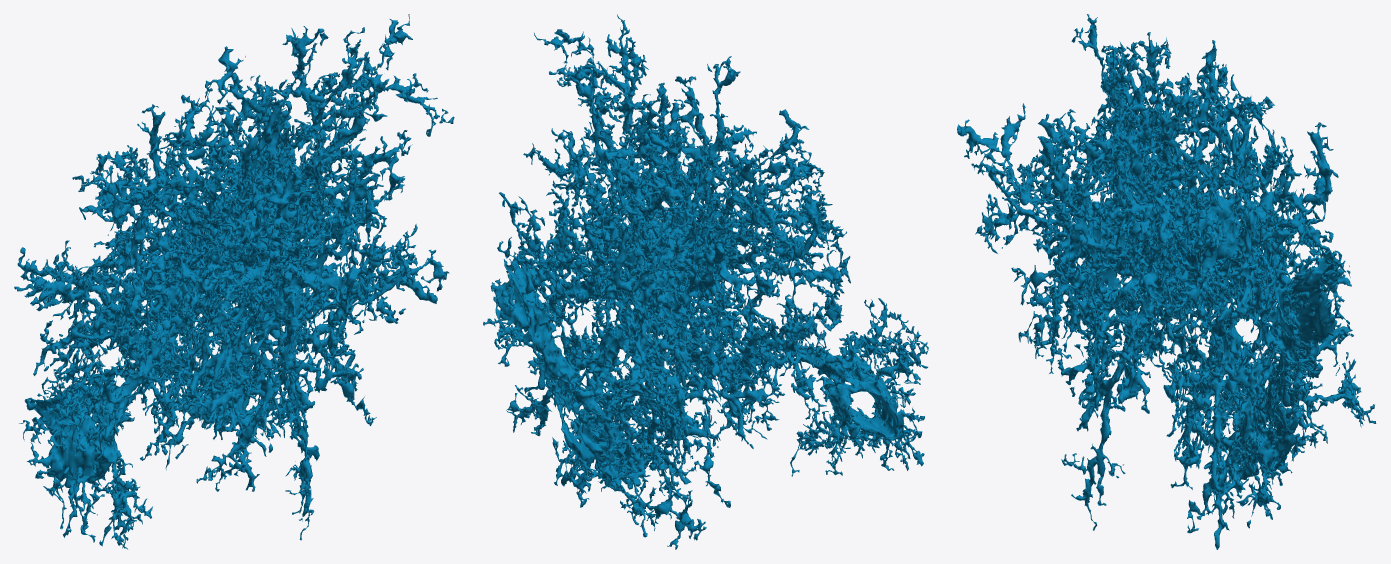
The model's file is example_astro.glb.
The picture shows the model from 3 angles, left to right: view 1: azimuth 30°, elevation 25°; view 2: azimuth 150°, elevation 25°; view 3: azimuth 270°, elevation 25°; orthographic projection. The views are drawn at different scales.
Visible parts, largest first — view 1: 2069615083_astro; view 2: 2069615083_astro; view 3: 2069615083_astro.
Boxes of the visible parts, box(x1,y1,x2,y2) form: 2069615083_astro: box(14, 14, 454, 549); 2069615083_astro: box(483, 14, 928, 549); 2069615083_astro: box(957, 14, 1376, 549).
Bounding box in the file's own units: 0.4978 × 0.5345 × 0.3922.
